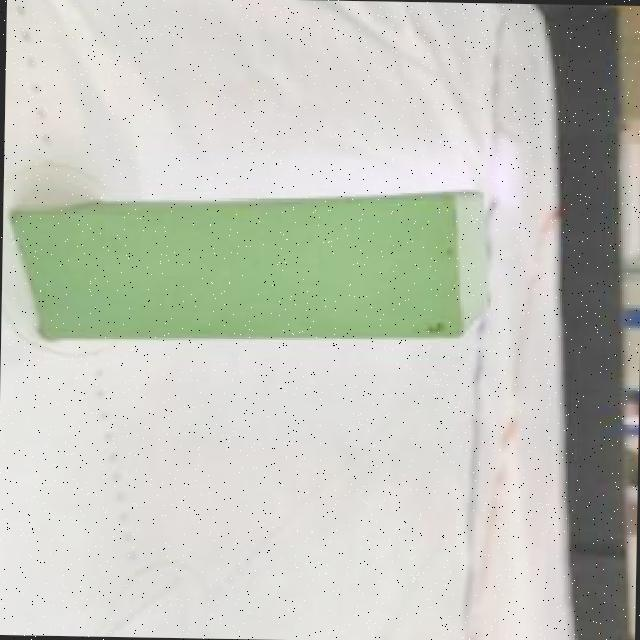greenbox: (0, 177, 500, 350)
